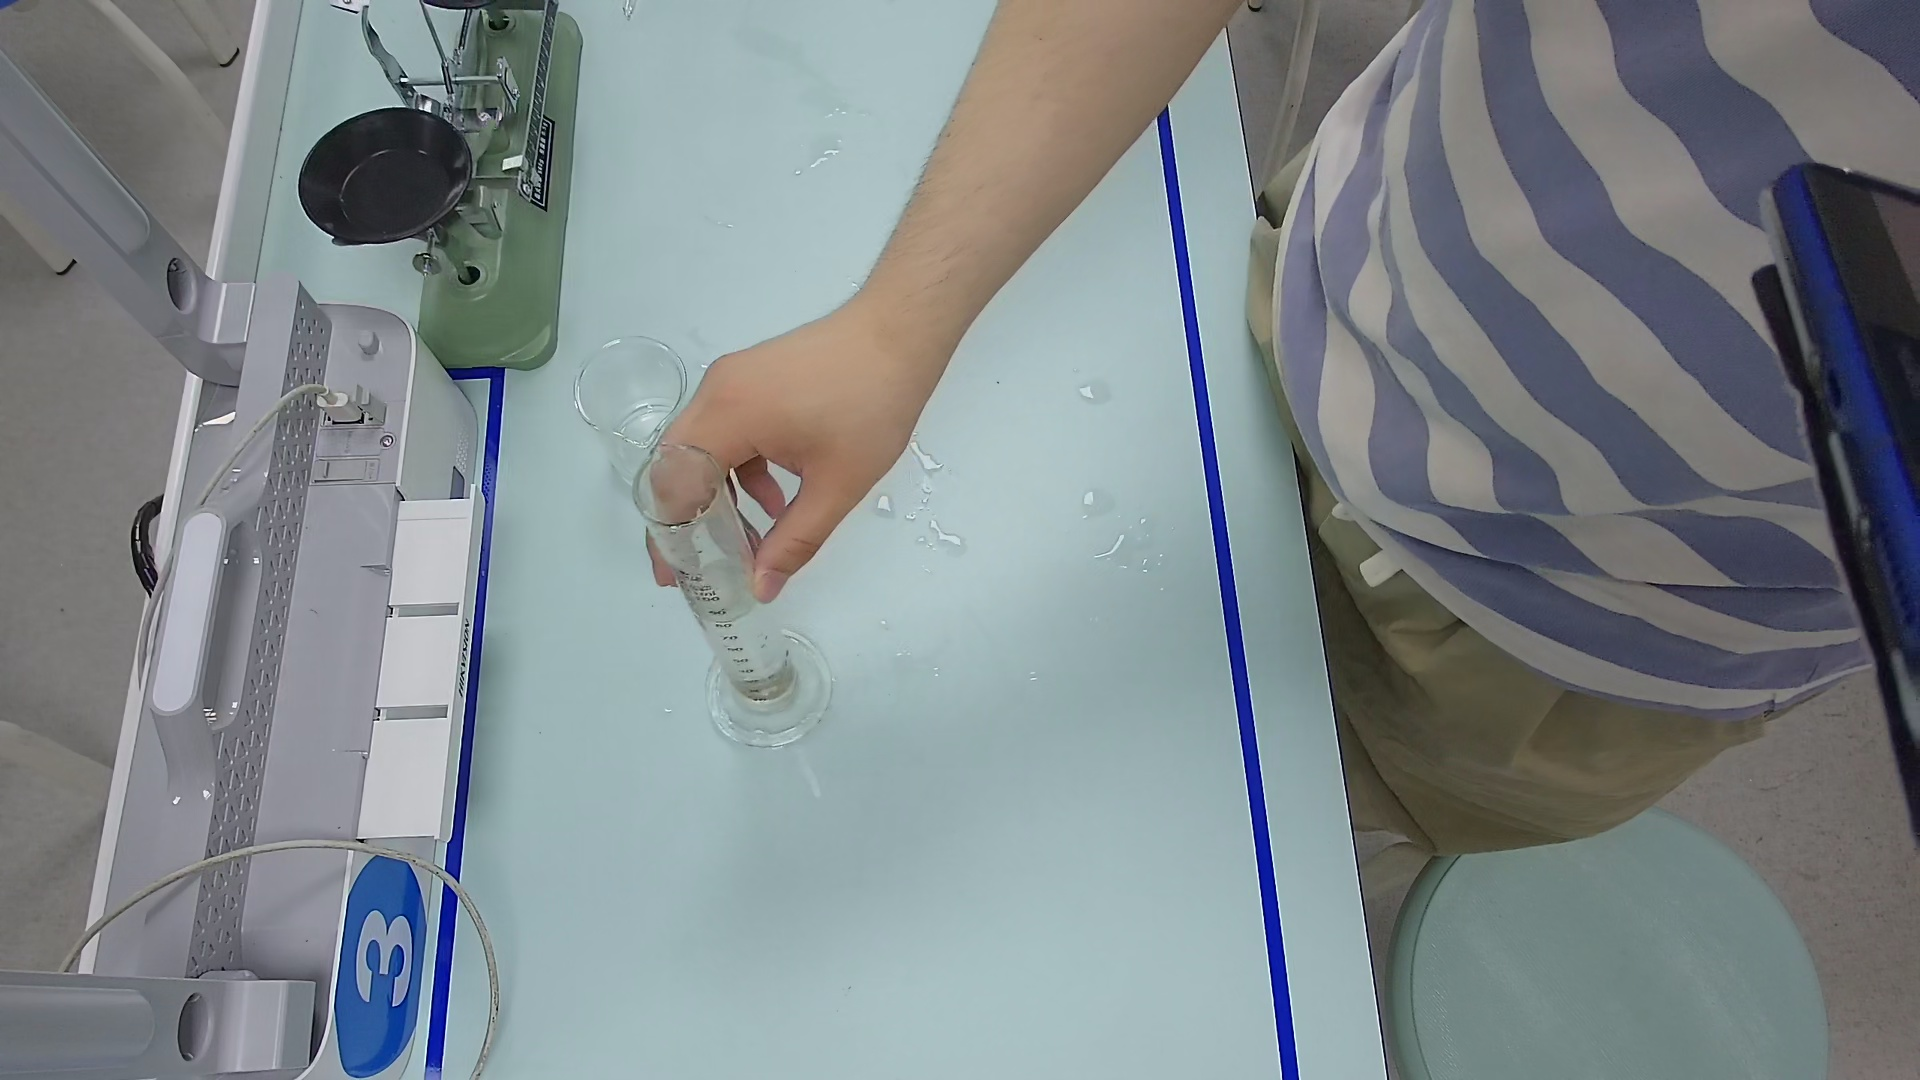ao: (680, 562, 760, 617)
bei: (570, 327, 692, 489)
hand: (632, 355, 905, 593)
liangdi: (702, 630, 837, 746)
liangtong: (629, 433, 815, 738)
shi: (733, 654, 786, 713)
tuo: (302, 116, 469, 237)
